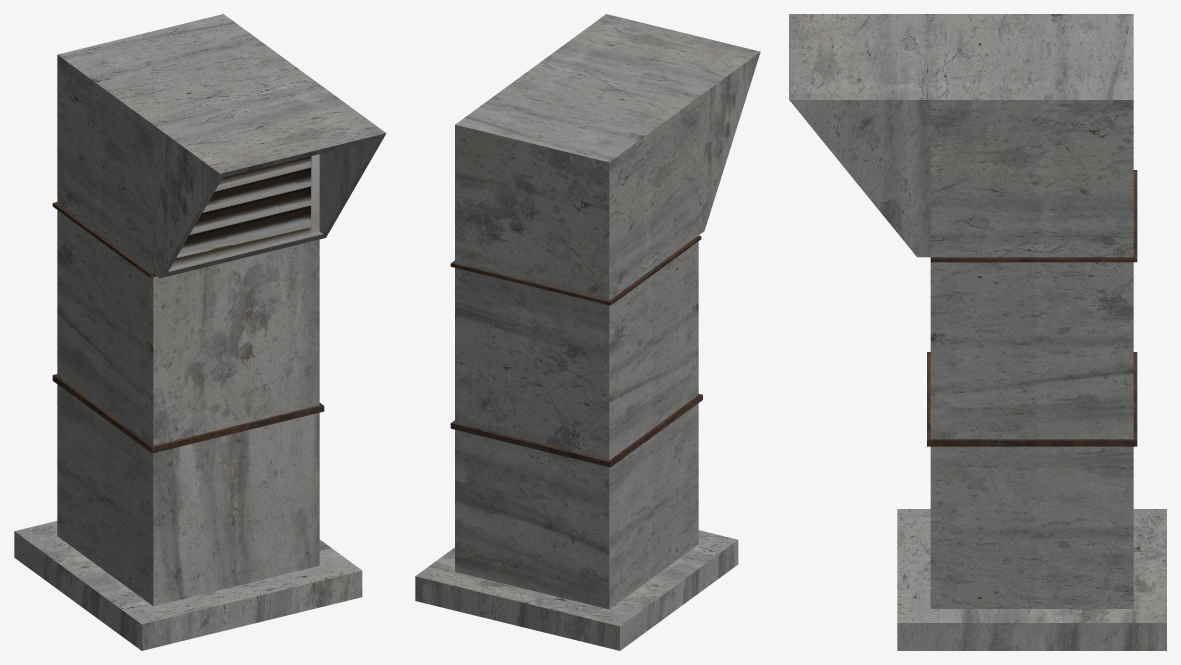
The model's file is Roof_P01.fbx.
3 renders of one model, left to right at view 1: azimuth 30°, elevation 25°; view 2: azimuth 150°, elevation 25°; view 3: azimuth 270°, elevation 25°, orthographic. The views are drawn at different scales.
Parts seen in each view (by area): view 1: Rf_01; view 2: Rf_01; view 3: Rf_01.
Part boxes in pixels (left/top/right/bottom): Rf_01: left=14, top=14, right=386, bottom=650; Rf_01: left=415, top=14, right=760, bottom=650; Rf_01: left=789, top=14, right=1166, bottom=650.
Bounding box in the file's own units: 100 × 220 × 140.
